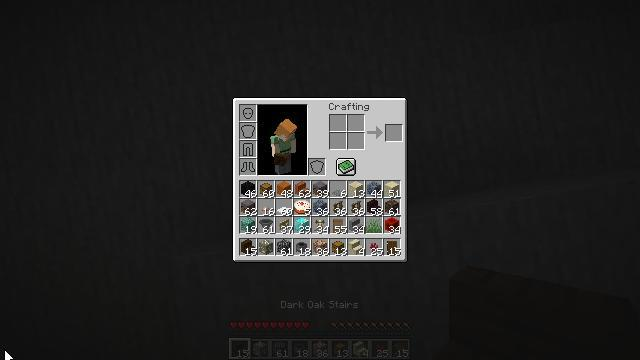cursor: (4, 349, 14, 360)
